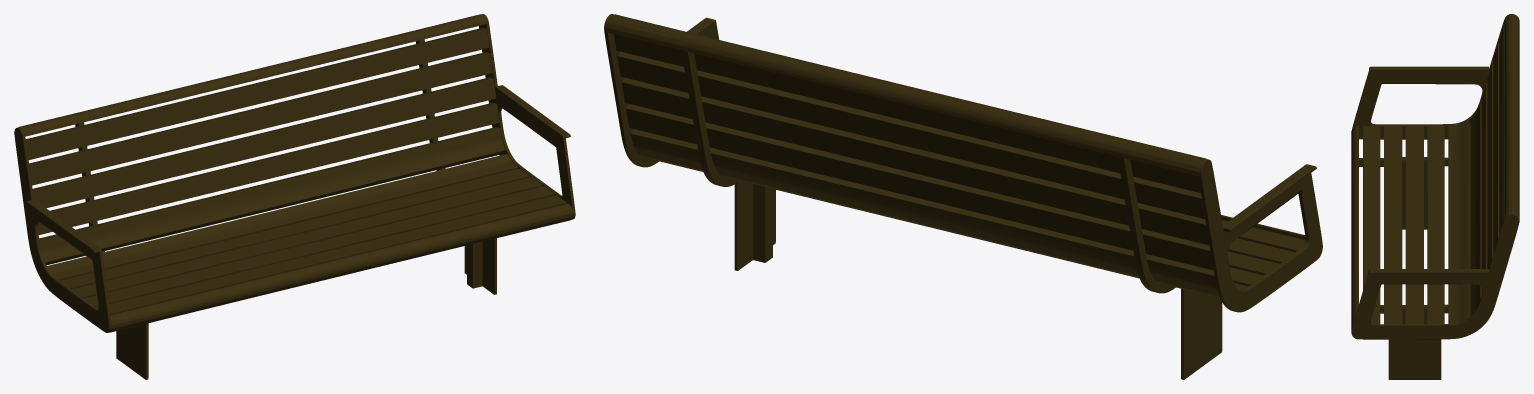
Rendered from banca.glb.
3 renders of one model, left to right at view 1: azimuth 30°, elevation 25°; view 2: azimuth 150°, elevation 25°; view 3: azimuth 270°, elevation 25°, orthographic. The views are drawn at different scales.
Visible parts, largest first — view 1: banca; view 2: banca; view 3: banca.
Boxes of the visible parts, x1=… form: banca: x1=14, y1=14, x2=575, y2=379; banca: x1=604, y1=14, x2=1322, y2=379; banca: x1=1351, y1=14, x2=1519, y2=379.
Size of the model in its own units: 2.09 by 0.9009 by 0.7223.
